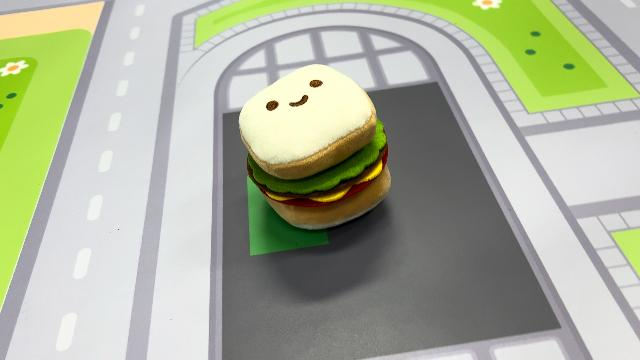sandwich: (236, 61, 394, 231)
